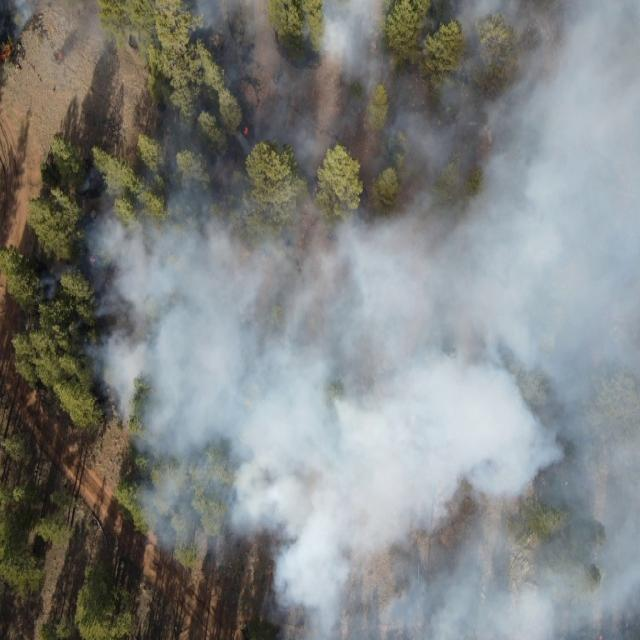fire: (0, 42, 13, 66), (242, 120, 251, 141), (56, 47, 65, 65)
smoke: (88, 188, 640, 452), (166, 0, 640, 188), (290, 457, 640, 640), (141, 450, 287, 560), (265, 567, 288, 640)
